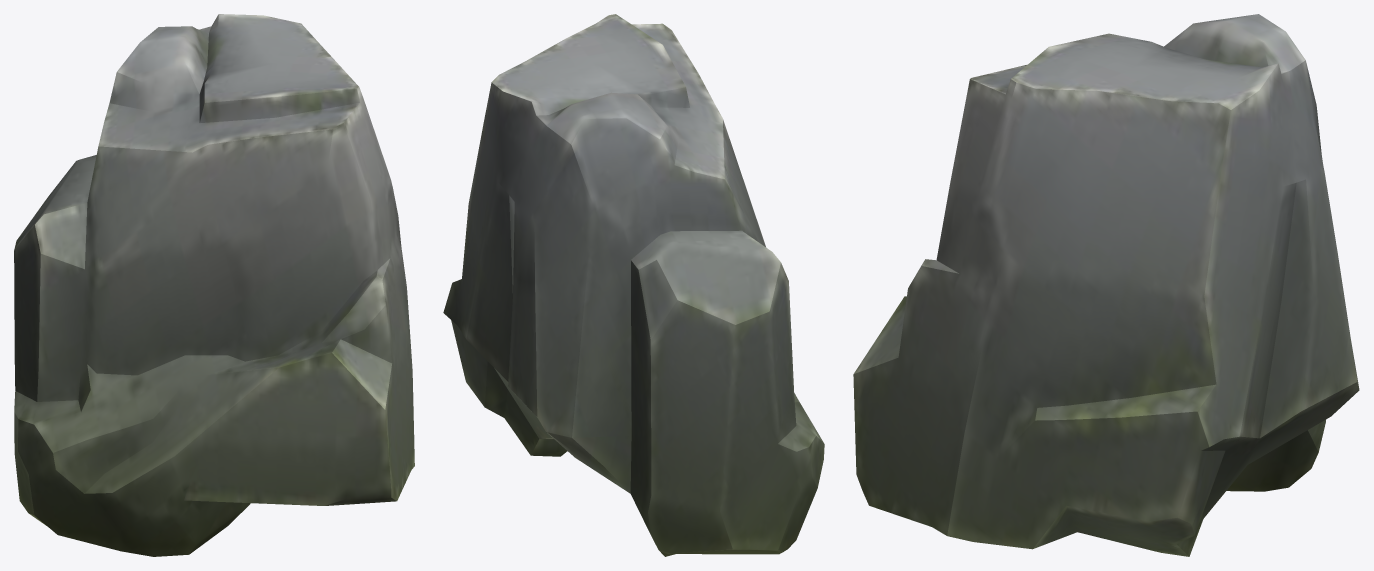
Rendered from sea_stack_a.glb.
3 renders of one model, left to right at view 1: azimuth 30°, elevation 25°; view 2: azimuth 150°, elevation 25°; view 3: azimuth 270°, elevation 25°, orthographic. The views are drawn at different scales.
Visible parts, largest first — view 1: Rock_Medium_3; view 2: Rock_Medium_3; view 3: Rock_Medium_3.
Boxes of the visible parts, x1,y1,x2,y2 form: Rock_Medium_3: [14, 14, 414, 556]; Rock_Medium_3: [443, 14, 824, 556]; Rock_Medium_3: [853, 14, 1359, 556].
Size of the model in its own units: 20.52 by 24.32 by 20.86.
Materials: 1 (1 with a texture image).
